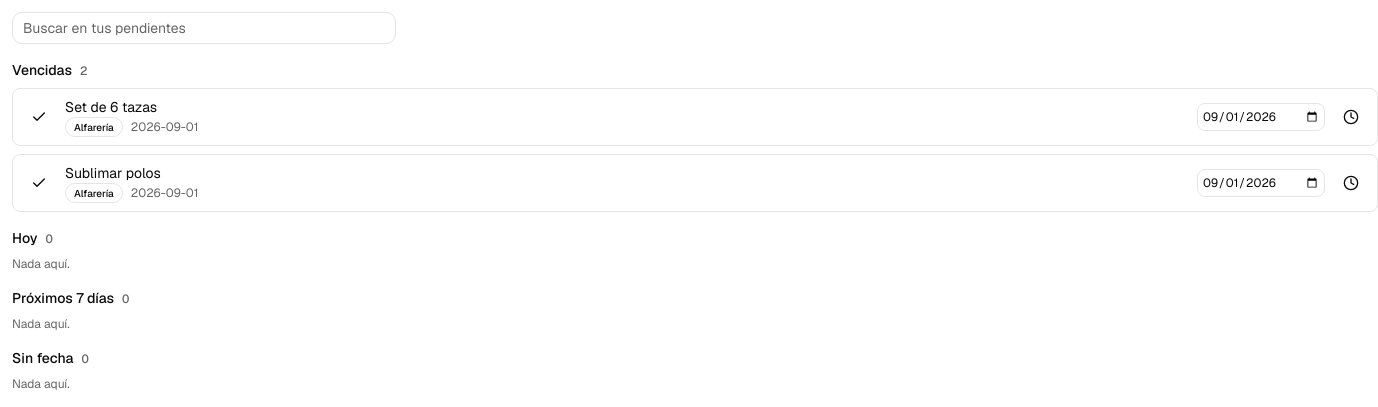
Test case: MyTasksScreen · filtros › los grupos siguen presentes y sus contadores cuentan lo filtrado
The width and height of the screenshot is (1378, 407).
Type "tazas" into the search field labelled "Buscar en tus pendientes" at (204, 28), box [12, 12, 396, 44]
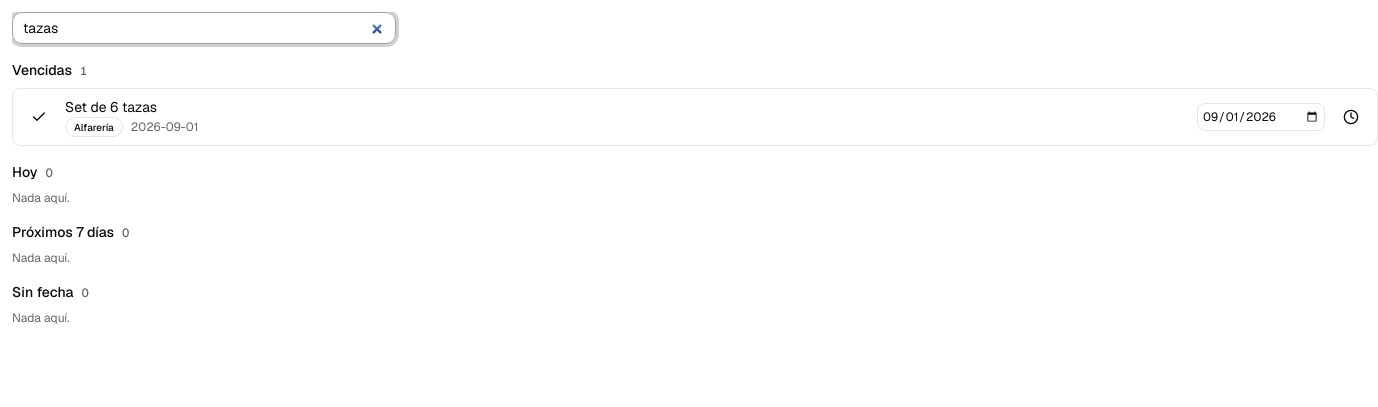
Expected: the list item with test id "pending-a" is shown, [12, 88, 1377, 146]
Now the text with test id "count-overdue" reads "1", box [80, 63, 87, 79]
Now the list item with test id "pending-b" is gone
